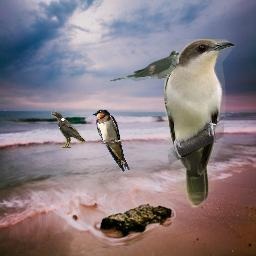Crow: (51, 111, 86, 148)
Cuckoo: (164, 39, 236, 209), (108, 50, 179, 82)
Swallow: (92, 109, 130, 172)
